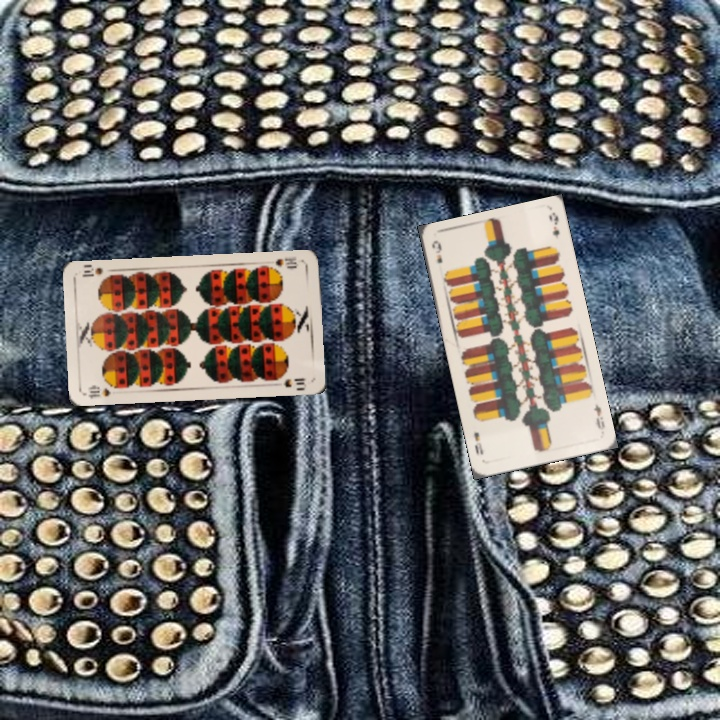E9: (590, 399, 607, 433), (428, 237, 445, 266)
S10: (82, 382, 114, 401), (272, 252, 301, 271)
